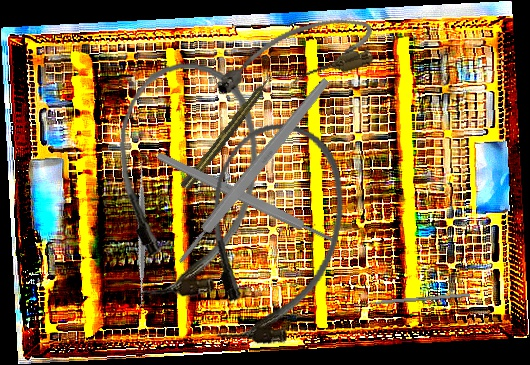Cannula: (188, 111, 358, 358), (107, 57, 266, 304), (207, 8, 381, 106)
Handpiece: (178, 72, 277, 192)
Pusher: (350, 292, 470, 308)
Scalpel Handle: (173, 75, 333, 267), (155, 150, 335, 246)
Spatula Surgical: (64, 156, 219, 311)
